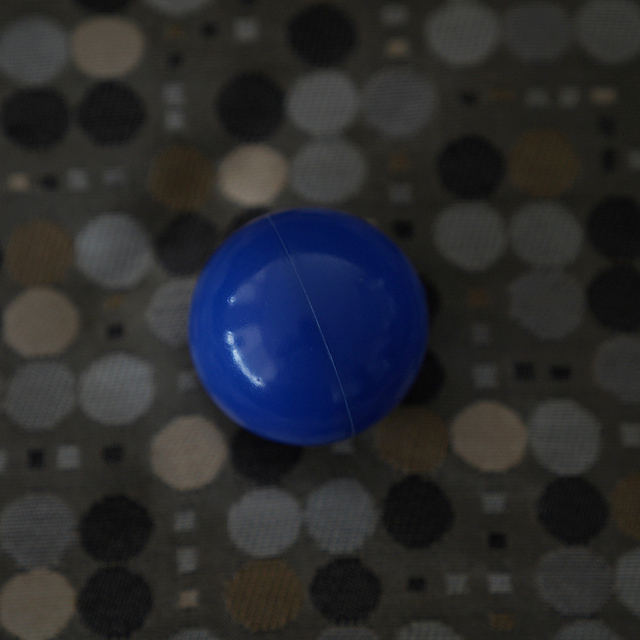Ball: (190, 213, 426, 447)
